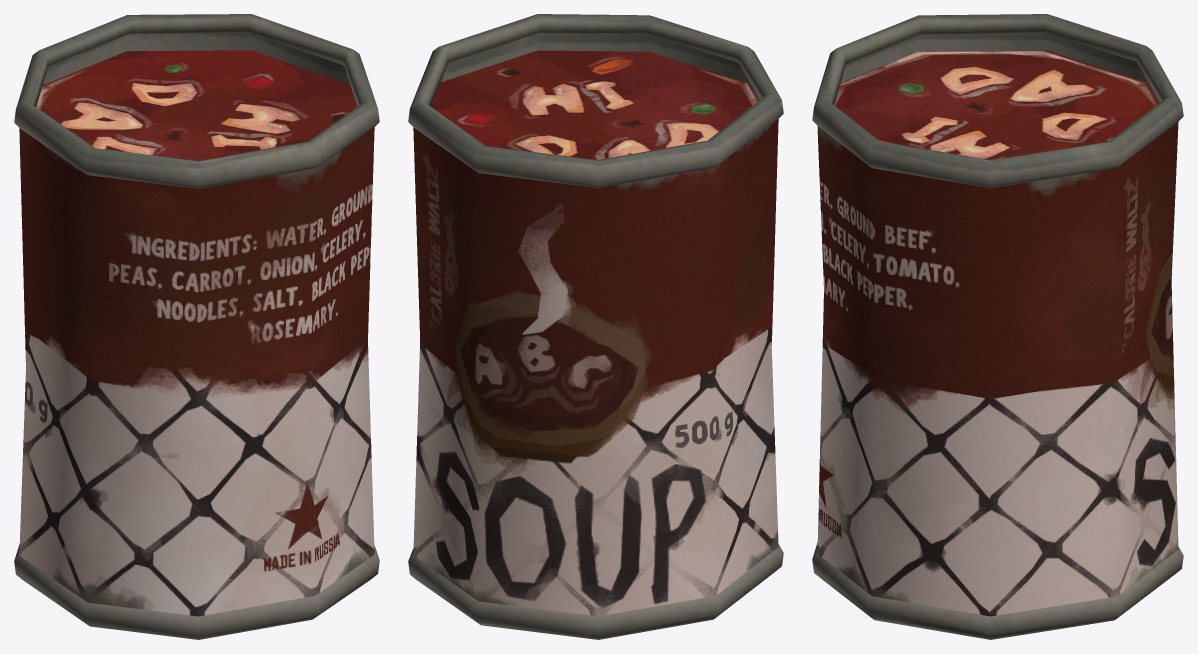
Rendered from CannedFoodOpened.fbx.
The picture shows the model from 3 angles, left to right: view 1: azimuth 30°, elevation 25°; view 2: azimuth 150°, elevation 25°; view 3: azimuth 270°, elevation 25°; orthographic projection.
Visible parts, largest first — view 1: ABCSoup_opened; view 2: ABCSoup_opened; view 3: ABCSoup_opened.
Boxes of the visible parts, <box> form: ABCSoup_opened: <box>14,14,379,639</box>; ABCSoup_opened: <box>408,14,783,639</box>; ABCSoup_opened: <box>812,14,1183,639</box>.
Bounding box in the file's own units: 10.84 × 10.97 × 15.58.
2 materials, 2 textured.
